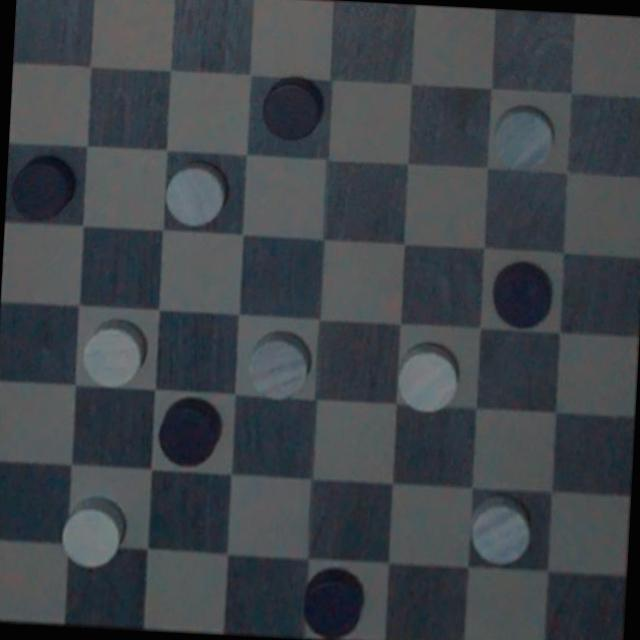BOARD: (0, 0, 640, 640)
black: (5, 142, 85, 225), (294, 559, 375, 640), (490, 246, 560, 334), (148, 395, 224, 473), (256, 70, 330, 145)
white: (52, 489, 140, 574), (388, 335, 462, 421), (484, 100, 562, 176), (242, 324, 314, 406), (73, 314, 148, 392), (157, 157, 238, 229), (459, 497, 535, 572)
